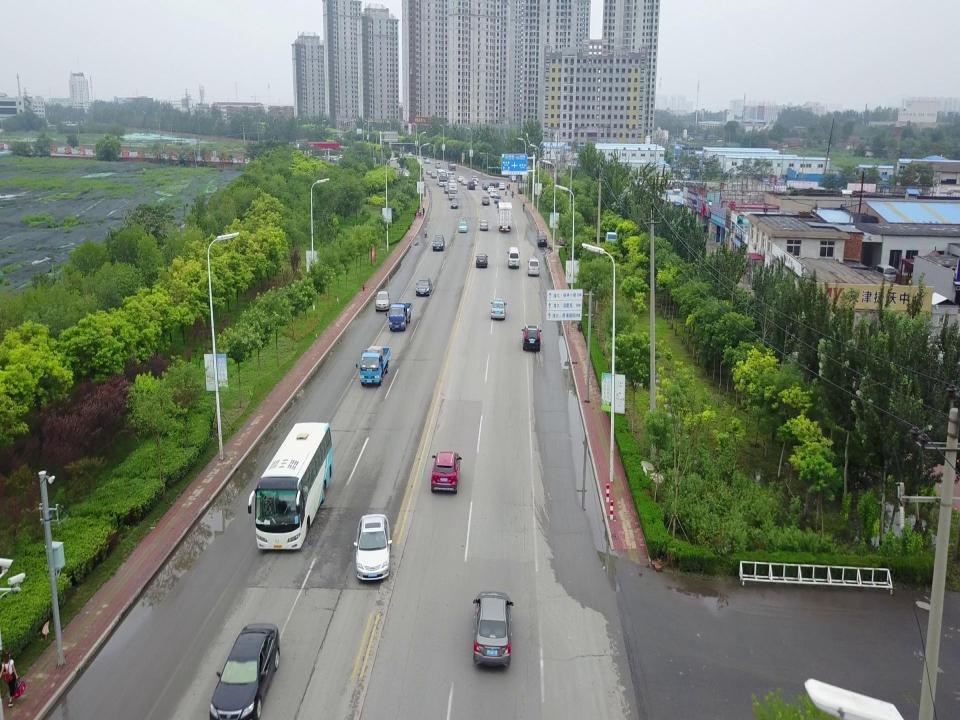bus: (248, 422, 334, 552), (436, 168, 448, 187)
car: (209, 622, 281, 720), (472, 591, 514, 668), (353, 513, 393, 582), (430, 451, 462, 494), (522, 324, 542, 352), (558, 232, 590, 247), (490, 297, 508, 321), (415, 277, 433, 297), (375, 290, 391, 311), (432, 235, 446, 251), (536, 231, 548, 248), (476, 253, 488, 268), (458, 220, 468, 233), (479, 219, 489, 232), (397, 172, 410, 180), (450, 198, 459, 208), (482, 196, 490, 206), (467, 181, 475, 190), (489, 181, 499, 188), (487, 186, 495, 194), (456, 175, 464, 183), (430, 171, 438, 179), (494, 195, 501, 204), (444, 185, 451, 194), (498, 199, 504, 209), (498, 183, 506, 190), (482, 183, 490, 190), (490, 190, 498, 197), (472, 175, 479, 183), (448, 178, 455, 185), (461, 179, 469, 185), (418, 163, 424, 171), (472, 179, 478, 186), (426, 168, 433, 174), (329, 157, 337, 162), (424, 158, 430, 163), (407, 152, 413, 157)
truck: (355, 345, 391, 386), (385, 301, 413, 332), (498, 202, 512, 232), (509, 169, 531, 182), (448, 182, 458, 200), (447, 161, 456, 171)
van: (604, 231, 634, 252), (870, 263, 896, 286), (507, 246, 520, 269), (526, 257, 540, 277), (443, 171, 455, 180), (435, 161, 441, 169), (339, 155, 343, 160)
